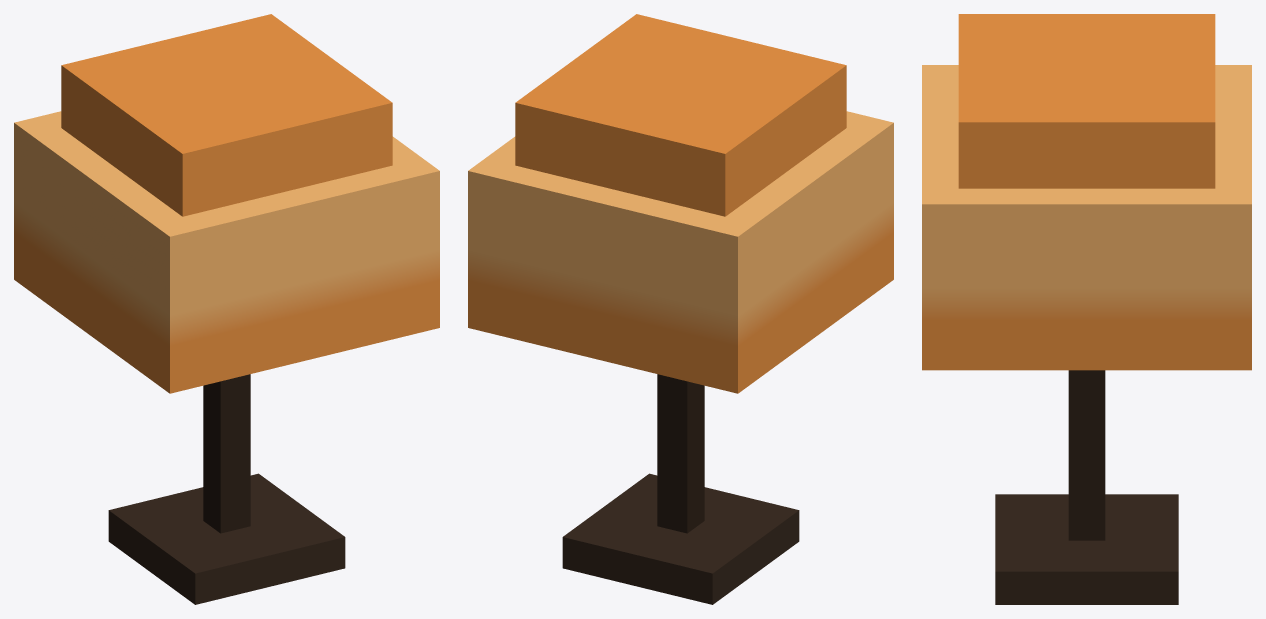
Rendered from ObstacleLamp.fbx.
The picture shows the model from 3 angles, left to right: view 1: azimuth 30°, elevation 25°; view 2: azimuth 150°, elevation 25°; view 3: azimuth 270°, elevation 25°; orthographic projection. The views are drawn at different scales.
Parts seen in each view (by area): view 1: Lamp; view 2: Lamp; view 3: Lamp.
Boxes of the visible parts, x1,y1,x2,y2 form: Lamp: (14, 14, 439, 604); Lamp: (468, 14, 893, 604); Lamp: (922, 14, 1251, 604).
Bounding box in the file's own units: 9 × 15 × 9.
1 material, 1 textured.
